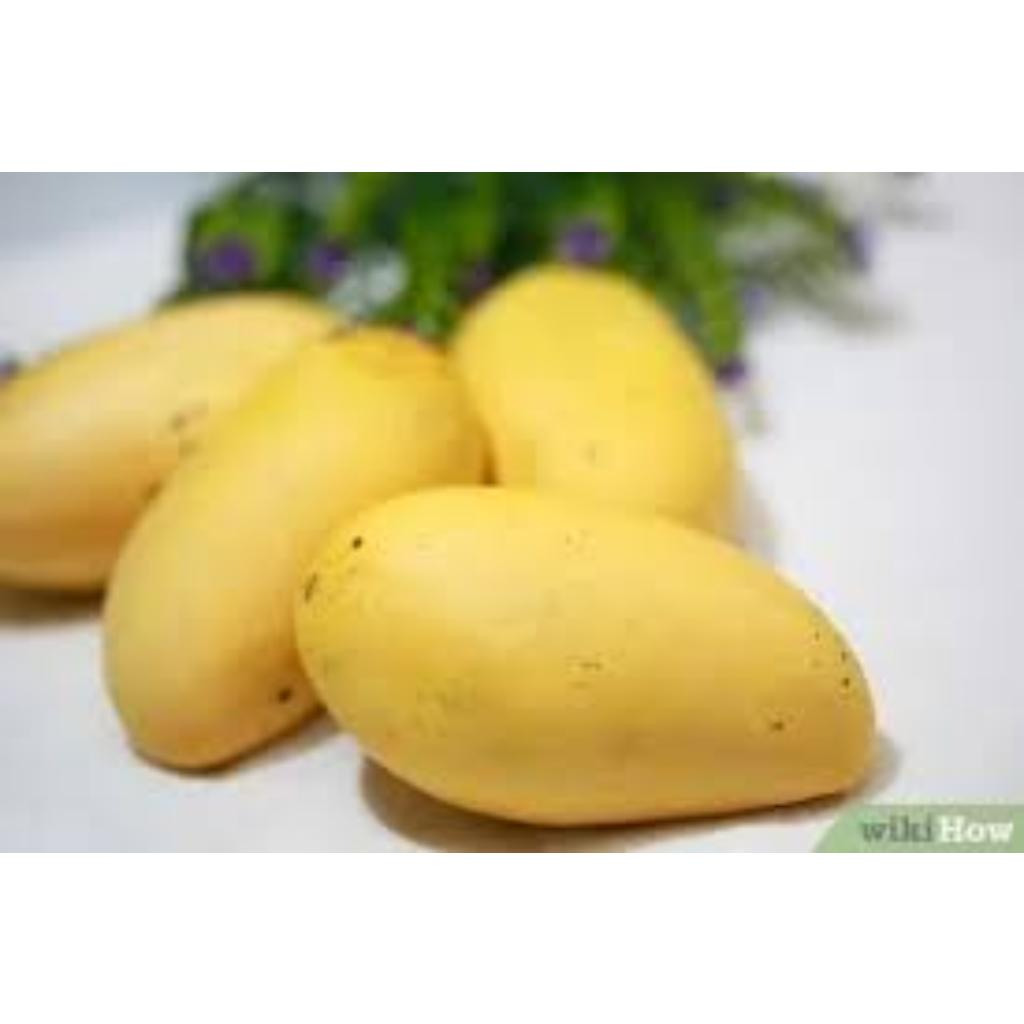mango: (290, 484, 886, 830), (89, 331, 499, 782), (0, 295, 375, 605), (454, 266, 754, 542)
